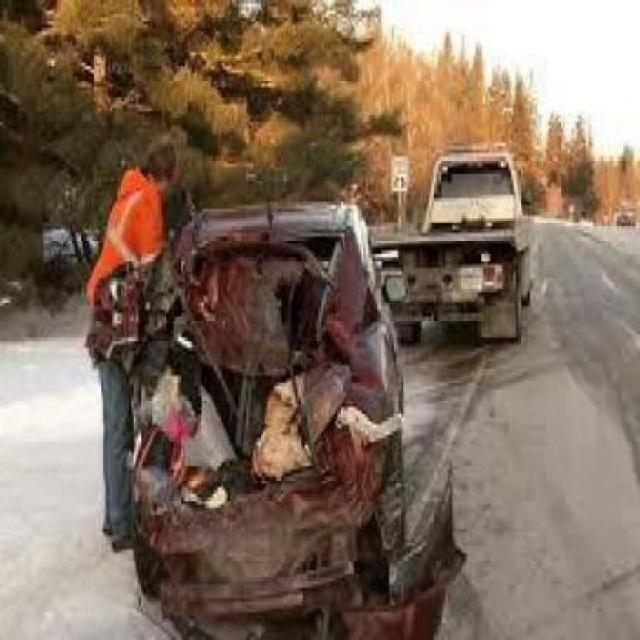damage: (128, 232, 463, 634)
